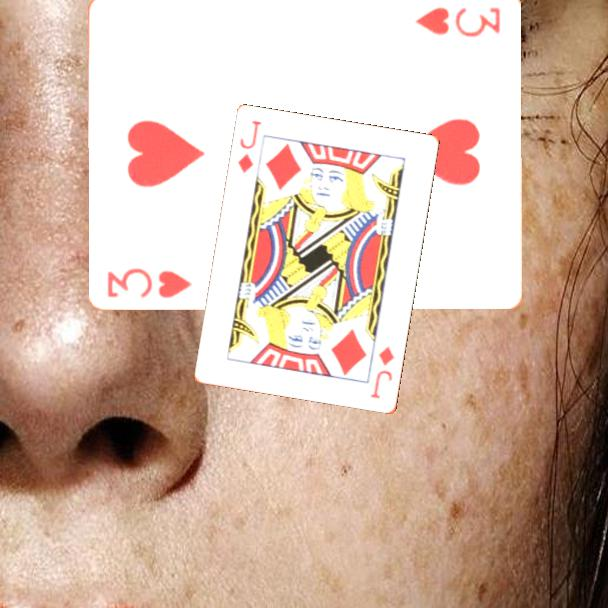d11: (367, 343, 398, 402), (235, 117, 265, 176)
h03: (412, 3, 504, 39), (105, 264, 196, 300)
